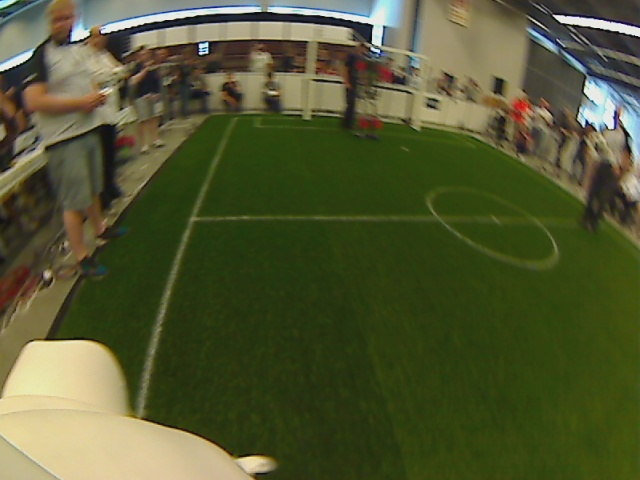ball: (587, 128, 614, 155)
goalpost: (299, 32, 435, 138)
robot: (352, 44, 395, 142)
